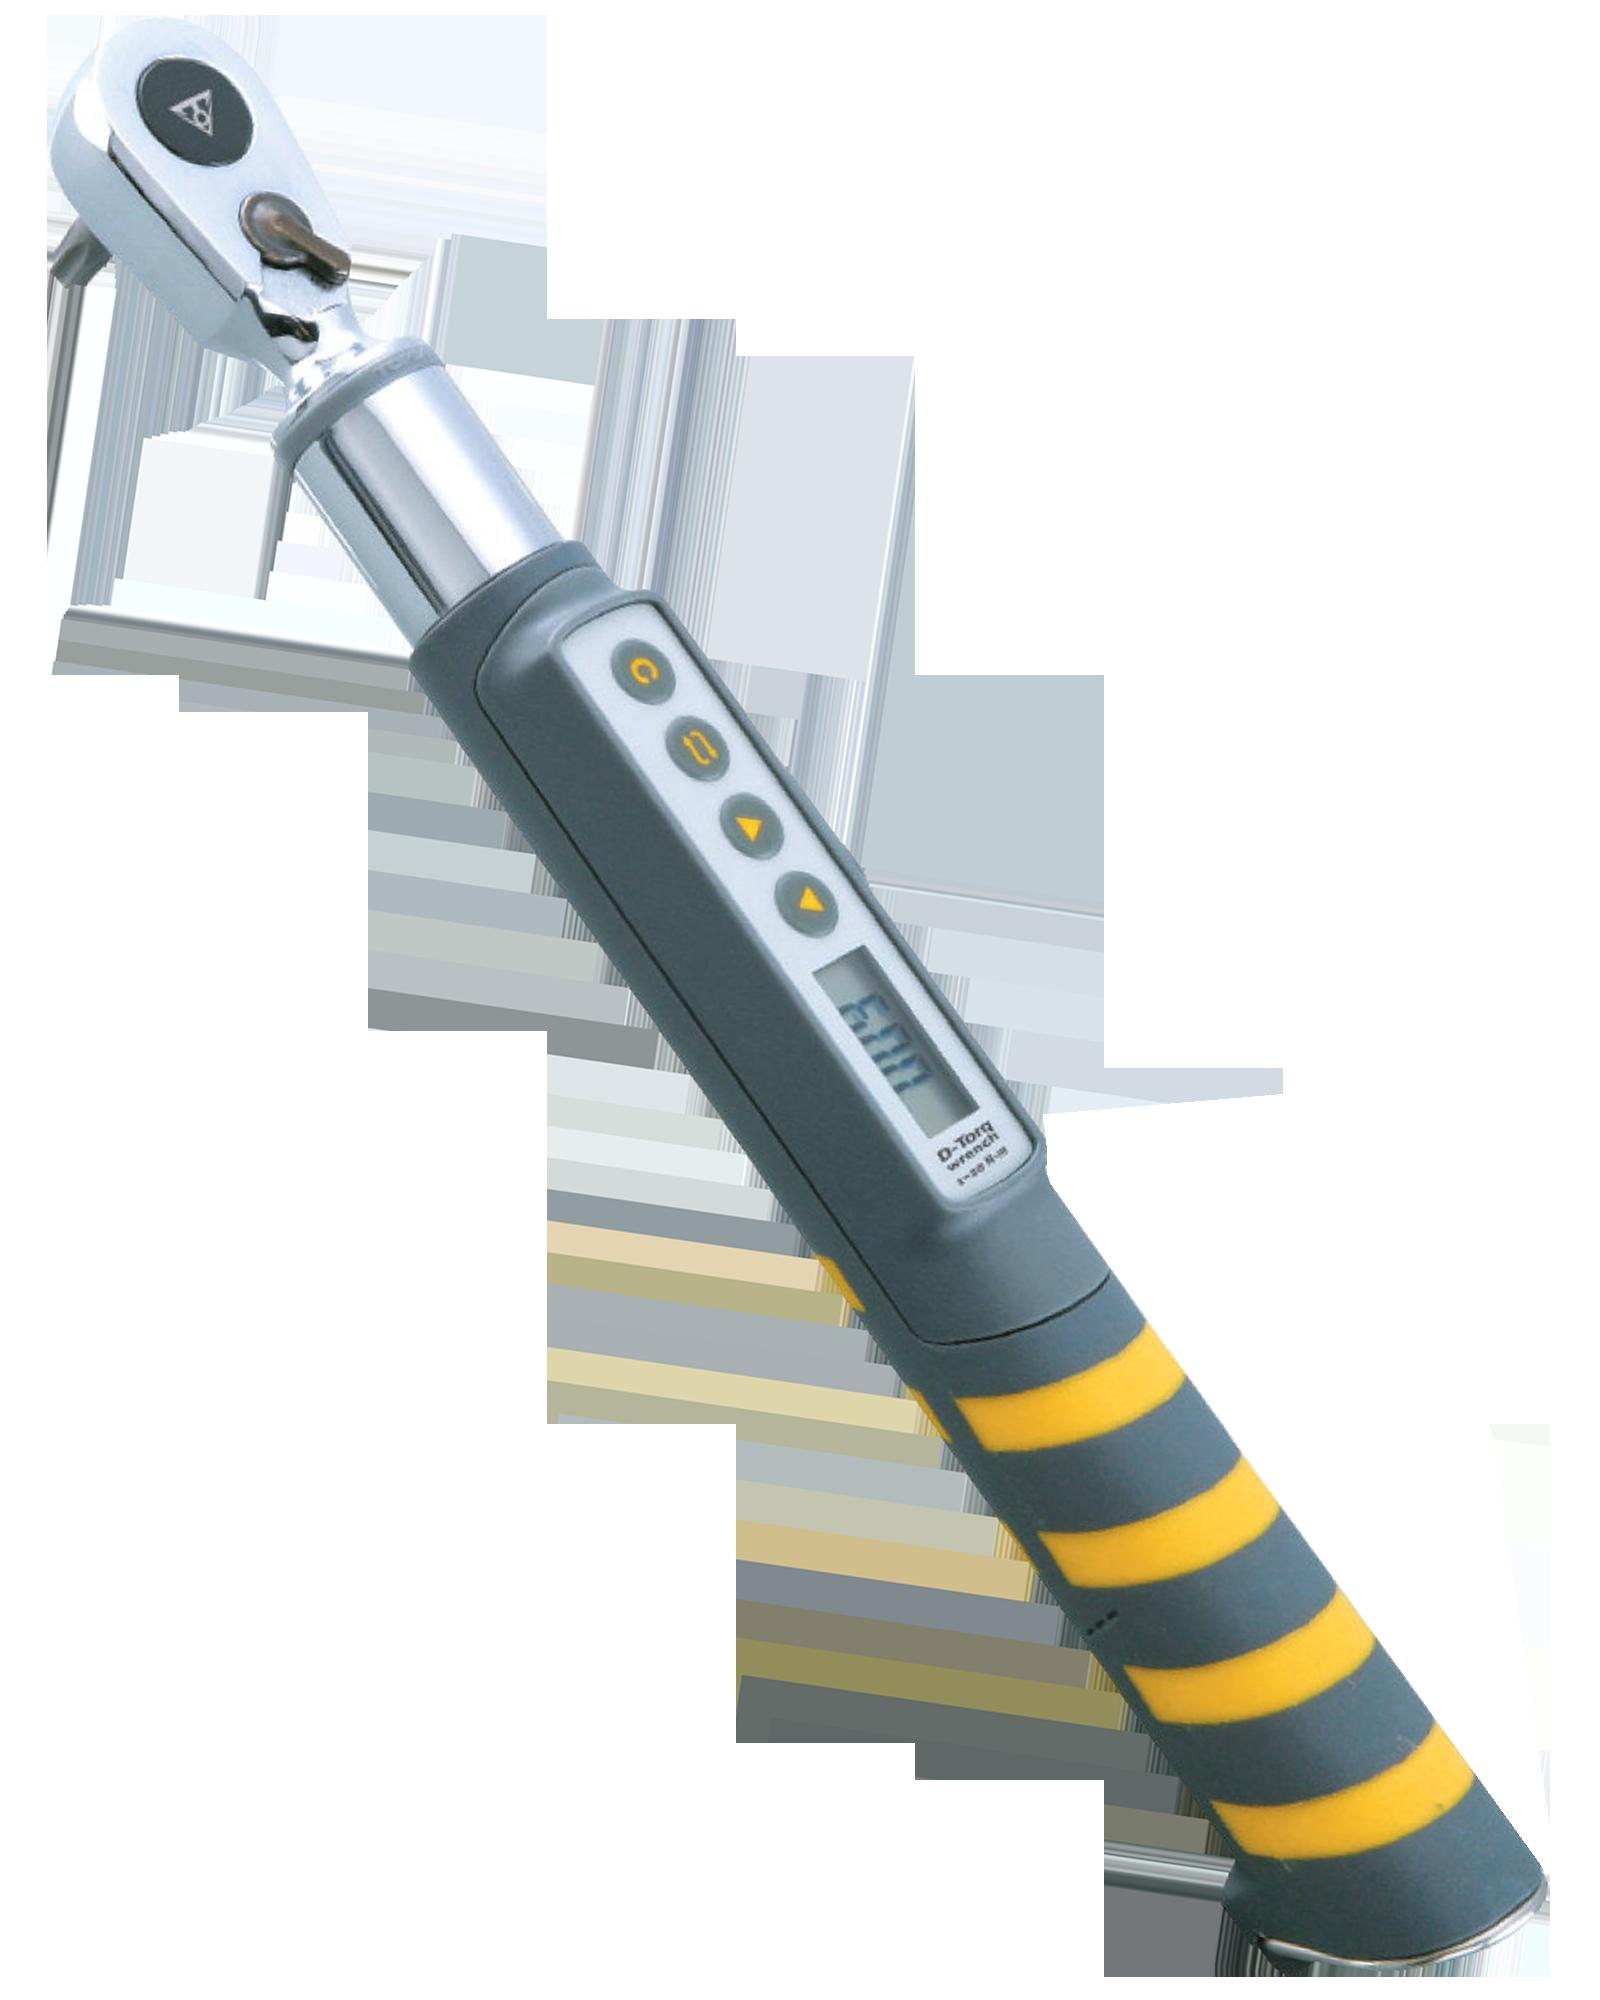Tool: (56, 26, 398, 385)
